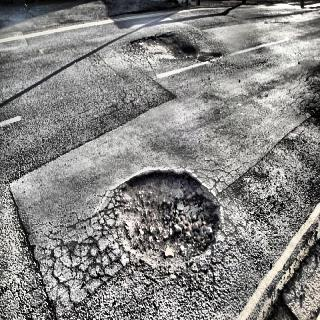alligator-crack: (5, 234, 136, 314)
pothole: (105, 165, 222, 255), (127, 28, 207, 68)
